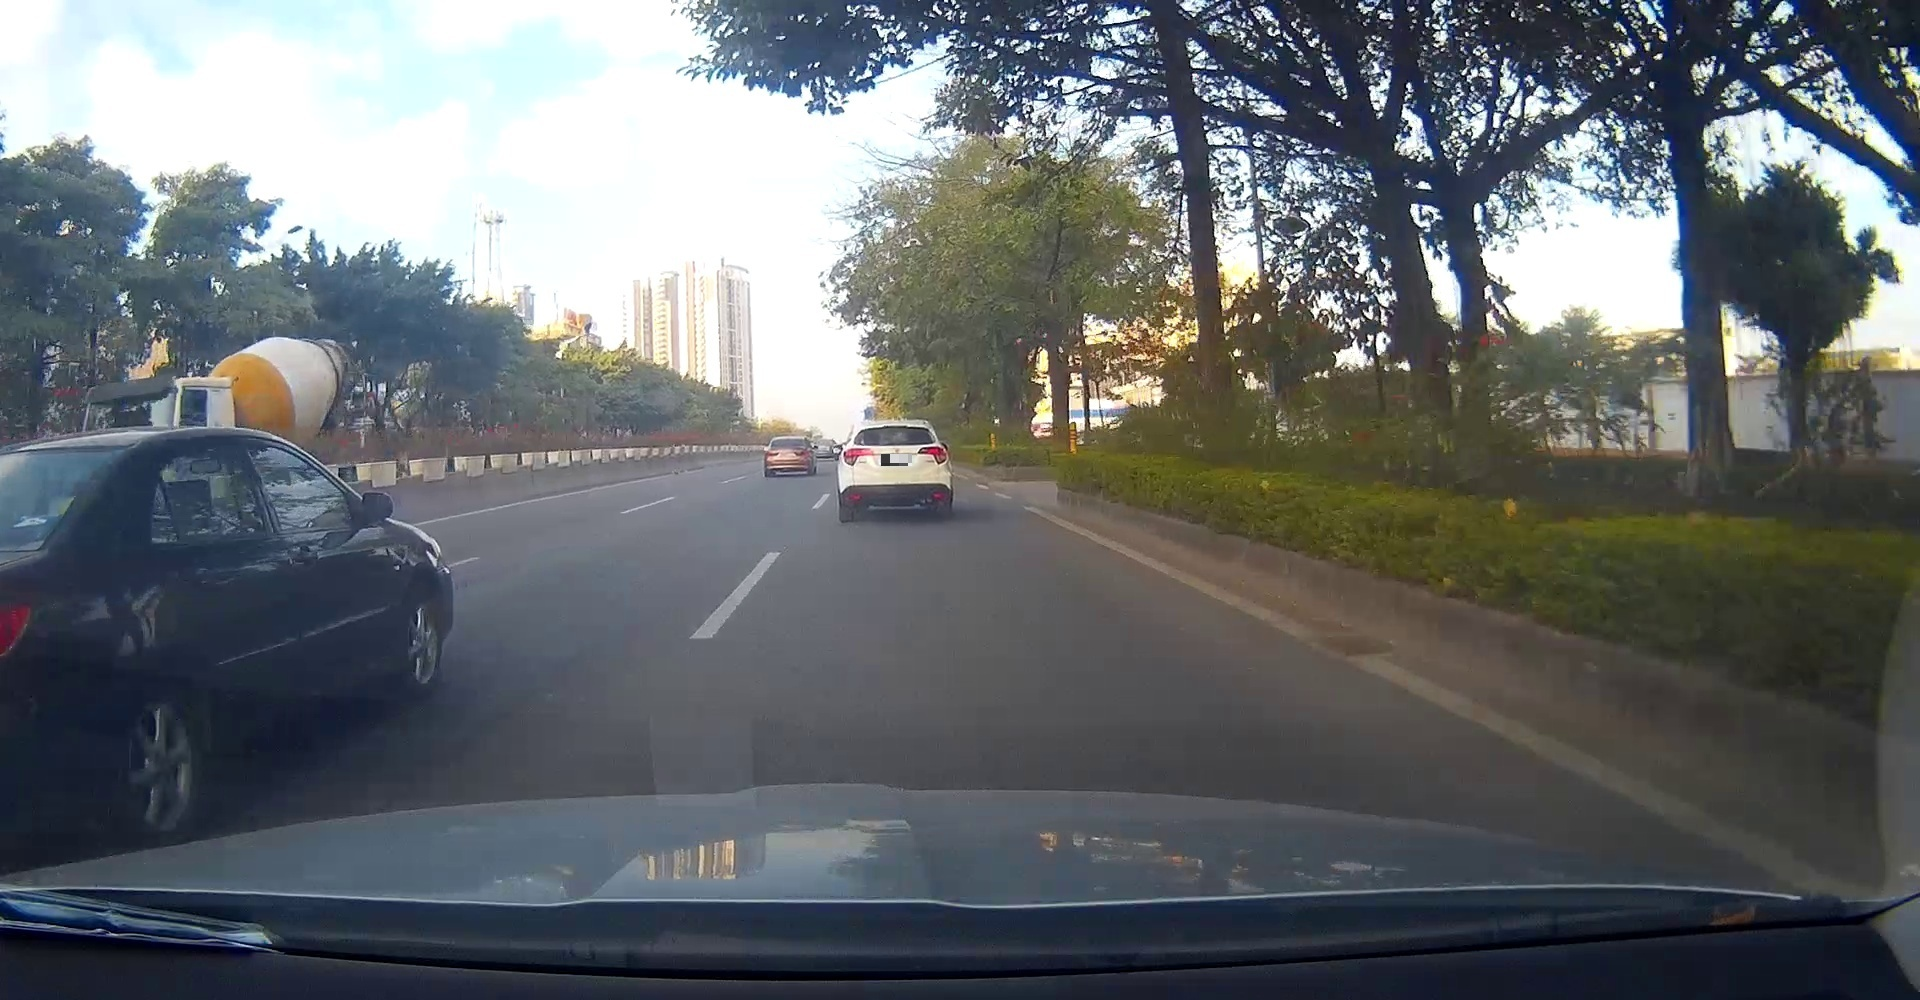L_light: (843, 447, 874, 466), (764, 452, 778, 457)
R_light: (917, 445, 949, 464), (792, 451, 805, 456)
T_light: (884, 425, 907, 429), (785, 438, 794, 440)
day-no: (836, 420, 952, 522), (763, 435, 814, 477)
plate_1: (881, 454, 912, 466)
